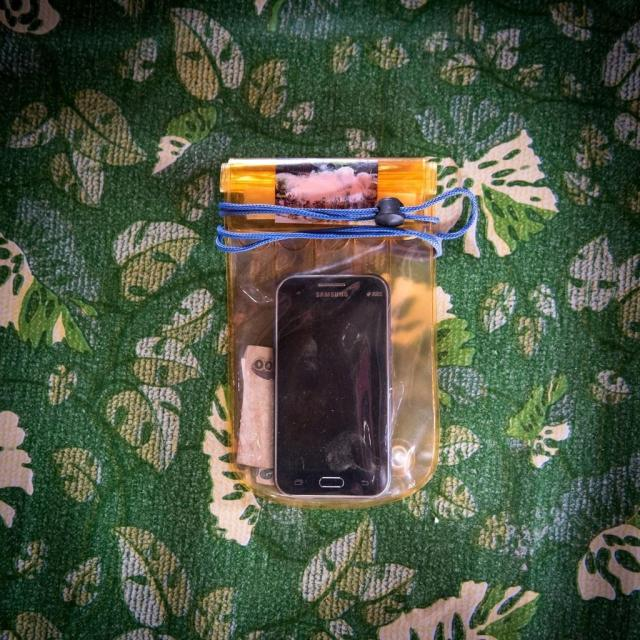Phone: (268, 268, 394, 506)
